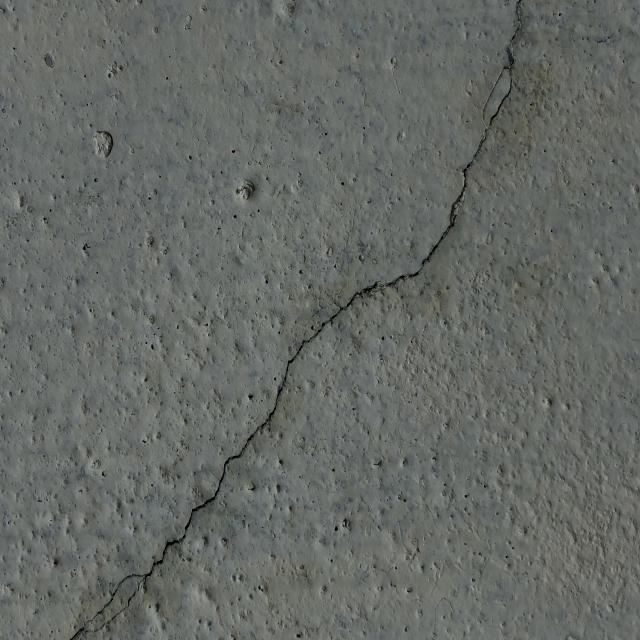SurfaceCrack: (15, 1, 634, 640)
